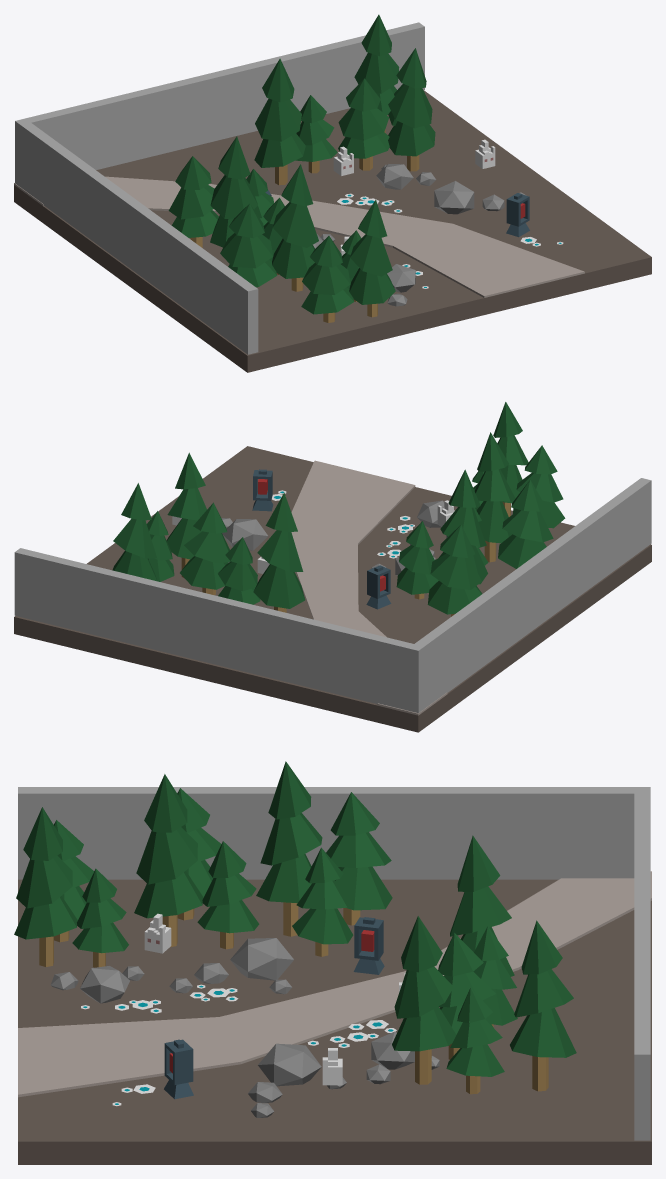
3 views of the same model, one above another, from view 1: azimuth 30°, elevation 25°; view 2: azimuth 150°, elevation 25°; view 3: azimuth 270°, elevation 25° (orthographic). The views are drawn at different scales.
Parts seen in each view (by area): view 1: other; view 2: other; view 3: other, G3, G2.
Boxes of the visible parts, x1,y1,x2,y2 form: other: (14,14,651,372); other: (14,402,651,732); other: (14,761,651,1164); G3: (144,913,171,953); G2: (322,1048,342,1085).
Size of the model in its own units: 1000 by 338 by 1006.
